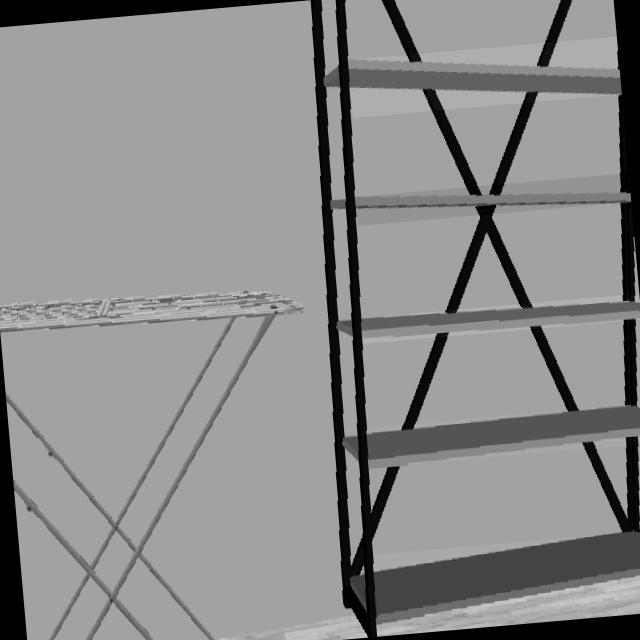shelf: (374, 532, 640, 619), (366, 405, 640, 467), (361, 300, 640, 339), (348, 59, 621, 94), (355, 191, 631, 209)
